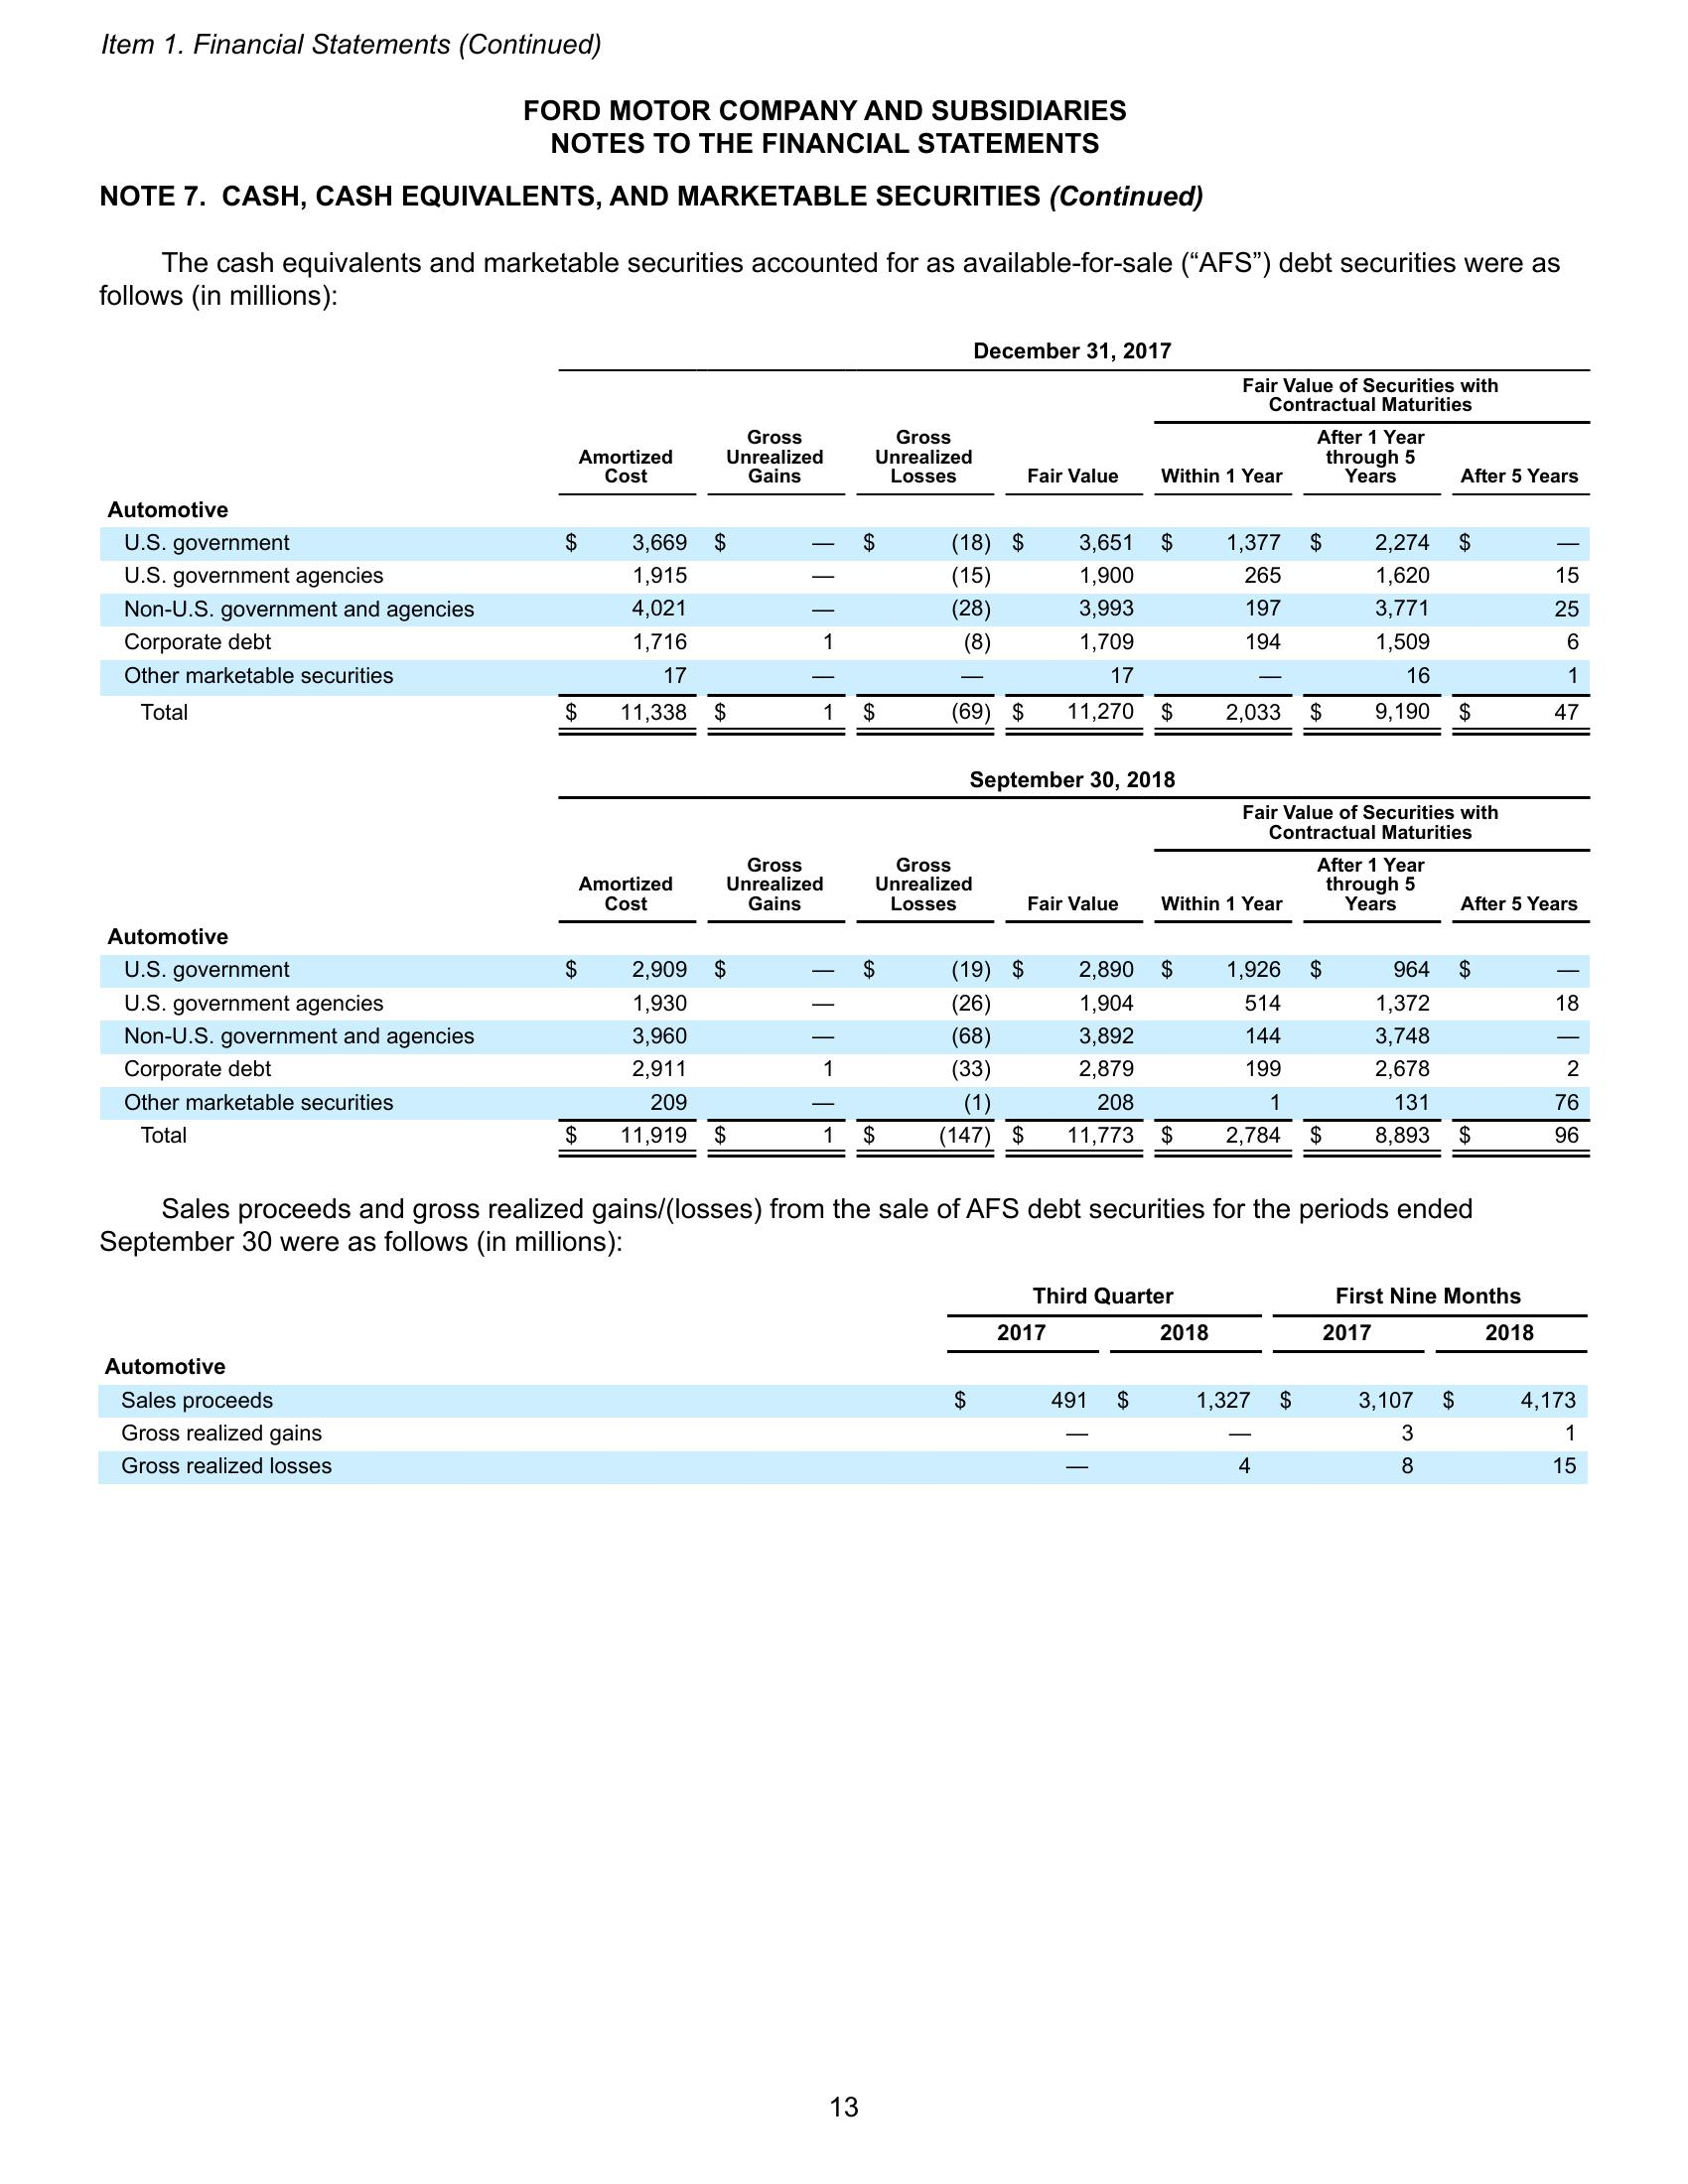table: (89, 335, 1599, 741), (94, 768, 1596, 1163), (96, 1273, 1594, 1491)
